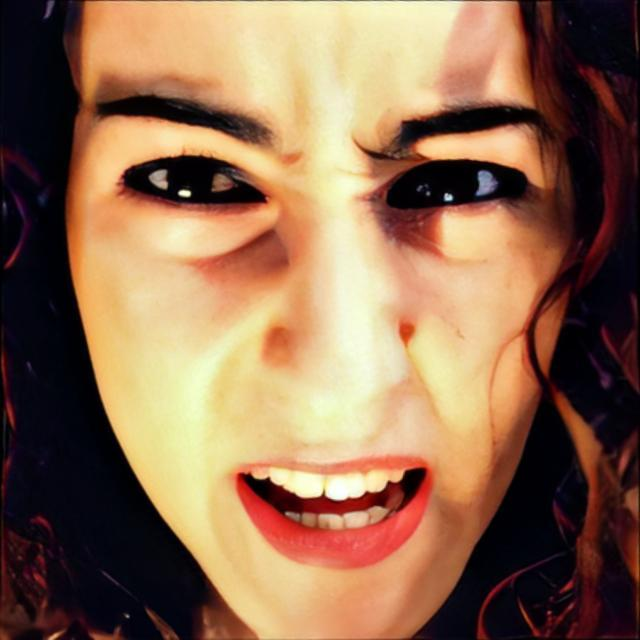disgust: (65, 0, 579, 640)
